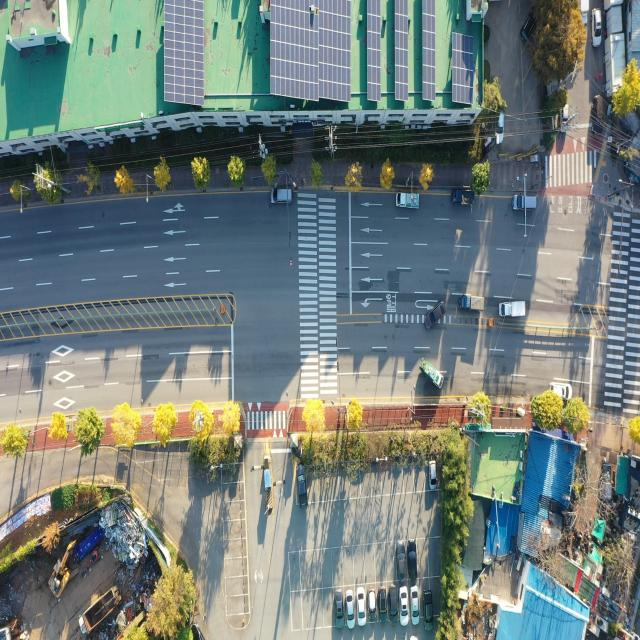car: (423, 302, 446, 328), (546, 380, 573, 402), (591, 95, 602, 136), (513, 195, 538, 212), (522, 13, 536, 42), (272, 186, 294, 204), (296, 468, 306, 507), (409, 543, 418, 580), (411, 584, 419, 625), (336, 592, 345, 628), (396, 544, 405, 579), (594, 11, 602, 49), (379, 589, 388, 622), (424, 591, 432, 628), (389, 586, 397, 623), (399, 588, 407, 624), (357, 587, 365, 622), (560, 103, 570, 131), (496, 111, 504, 145), (367, 590, 375, 622), (347, 591, 354, 624), (429, 460, 436, 489)
medium_truck: (75, 584, 123, 640)
small_truck: (419, 362, 443, 389), (499, 302, 526, 320), (459, 295, 484, 313), (395, 193, 419, 211), (451, 188, 474, 206), (580, 0, 589, 31)
